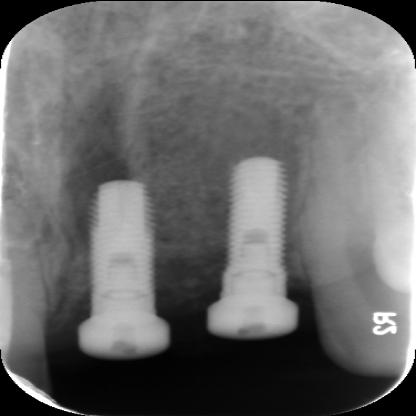Bego: (73, 176, 165, 318), (212, 151, 291, 297)
